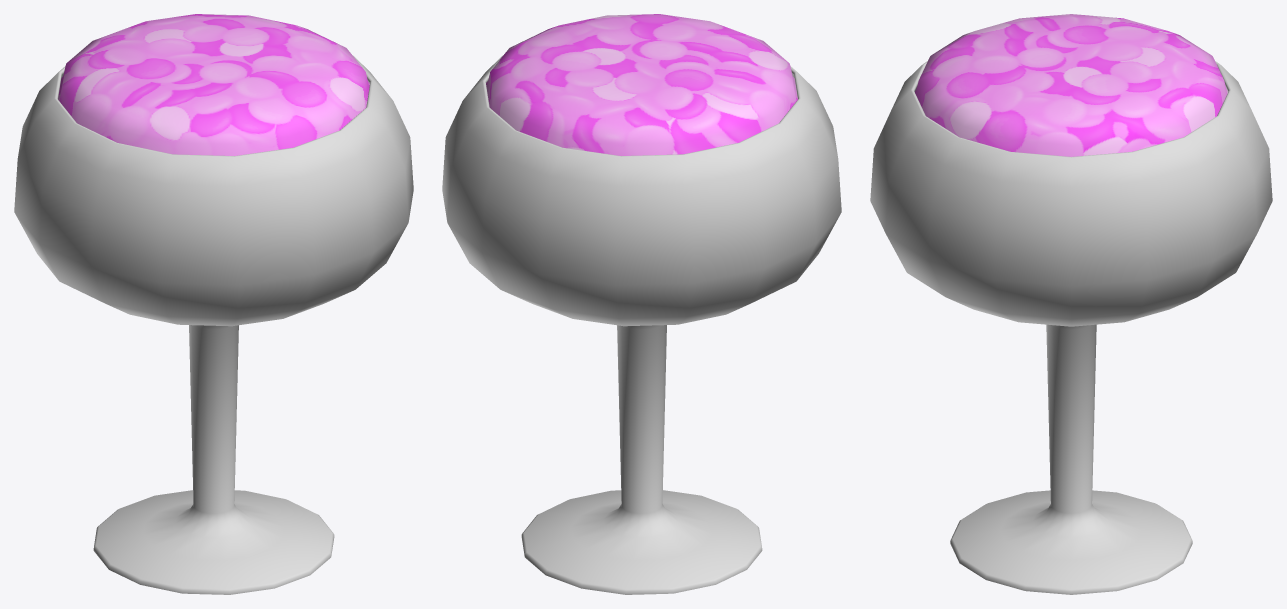
The model's file is BuffetCandy01_2.FBX.
The picture shows the model from 3 angles, left to right: view 1: azimuth 30°, elevation 25°; view 2: azimuth 150°, elevation 25°; view 3: azimuth 270°, elevation 25°; orthographic projection.
Parts seen in each view (by area): view 1: BuffetCandy01_2; view 2: BuffetCandy01_2; view 3: BuffetCandy01_2.
Part boxes in pixels (box(x1,y1,x2,y2)): BuffetCandy01_2: box(14, 14, 413, 594); BuffetCandy01_2: box(442, 14, 841, 594); BuffetCandy01_2: box(870, 14, 1272, 594).
Size of what is drawn, in the model's own units: 0.2655 by 0.3521 by 0.2655.
